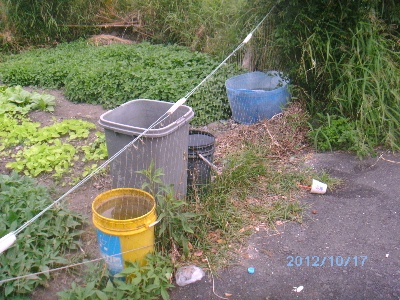bowl: (225, 70, 294, 124)
bucket: (99, 97, 195, 218), (91, 187, 158, 285)
